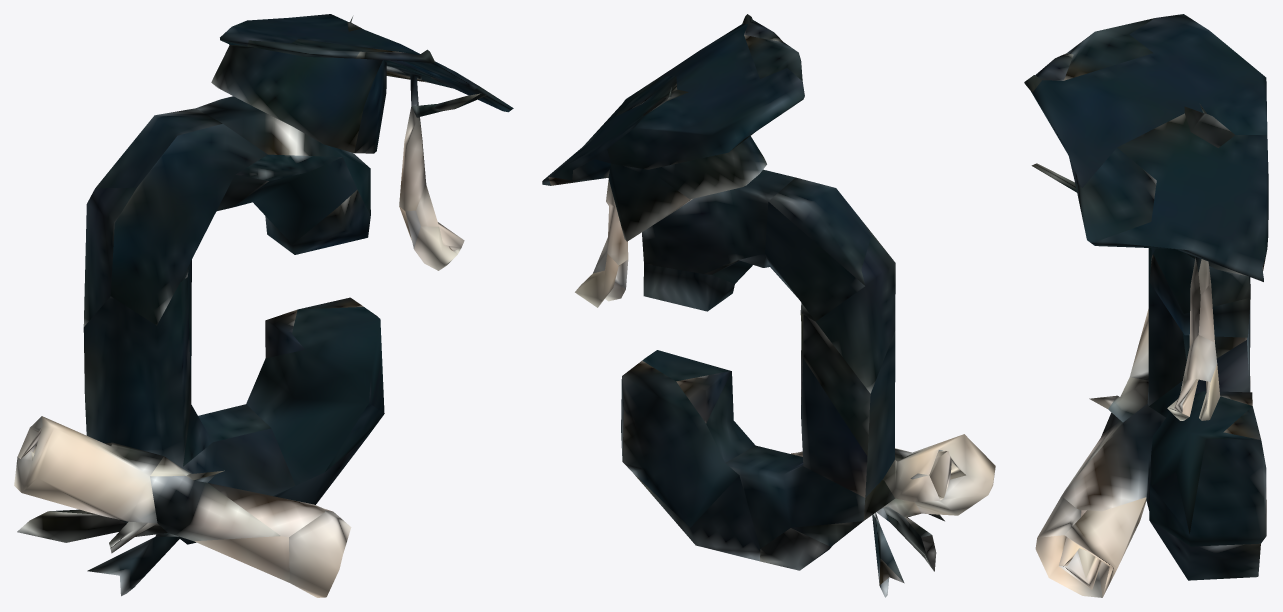
3 renders of one model, left to right at view 1: azimuth 30°, elevation 25°; view 2: azimuth 150°, elevation 25°; view 3: azimuth 270°, elevation 25°, orthographic. The views are drawn at different scales.
Parts seen in each view (by area): view 1: Graduation-C; view 2: Graduation-C; view 3: Graduation-C.
Boxes of the visible parts, <box> form: Graduation-C: <box>14,14,513,597</box>; Graduation-C: <box>542,14,995,597</box>; Graduation-C: <box>1024,14,1268,597</box>.
Bounding box in the file's own units: 0.2682 × 0.3043 × 0.1189.
Materials: 1 (1 with a texture image).
